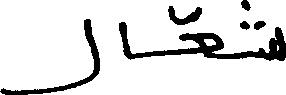X: (0, 14, 99, 94), (181, 2, 222, 63), (254, 16, 285, 65), (120, 17, 131, 64)
